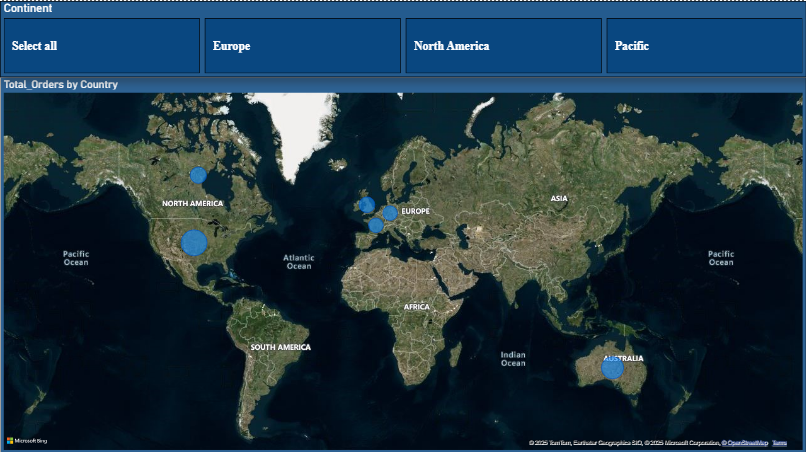

Layout of this report page (visuals, bound fields, positions):
{"tool":"powerbi","page":{"name":"Page 6","canvas":[1280,720],"ordinal":6},"visuals":[{"type":"map","fields":{"Category":["Territory Lookup.Country"],"Size":["Measure Table.Total_Orders"]},"box":[0,121.3,1280.3,598.4],"z":0},{"type":"advancedSlicerVisual","fields":{"Values":["Territory Lookup.Continent"]},"box":[0,0,1280.3,121.3],"z":1000}]}

Visuals, with their boxes in screenshot pixels (x1, y1, x2, y2), scaled from the page's 1280x720 canvas onto the 806x452 screenshot:
map - Territory Lookup.Country x Measure Table.Total_Orders: [left=0, top=76, right=805, bottom=451]
advancedSlicerVisual - Territory Lookup.Continent: [left=0, top=0, right=805, bottom=76]
